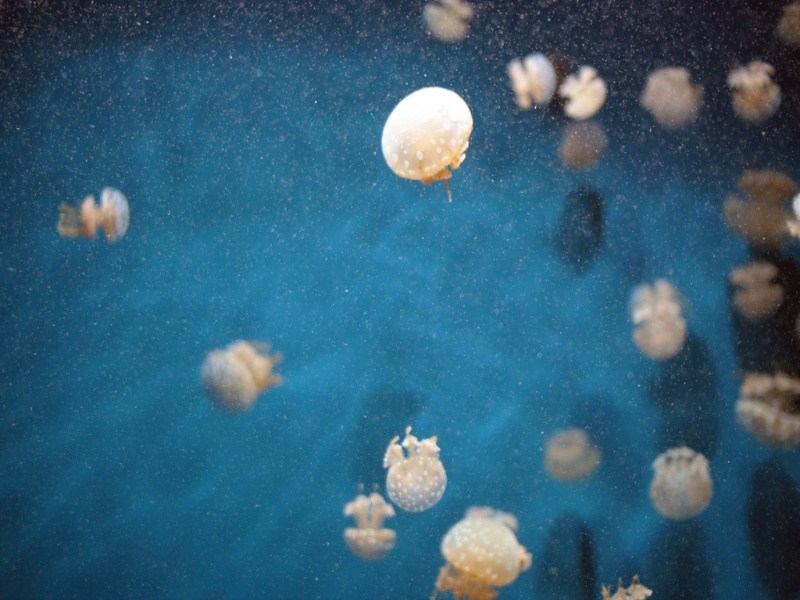Jellyfish: (380, 89, 482, 198), (430, 503, 526, 599), (199, 338, 281, 412), (725, 170, 799, 249), (383, 426, 446, 513), (627, 279, 688, 364), (647, 449, 714, 521), (737, 368, 799, 445), (55, 184, 131, 245), (341, 482, 399, 561), (638, 65, 701, 131), (729, 57, 784, 128), (728, 258, 783, 323), (510, 51, 557, 111), (560, 64, 603, 119), (420, 0, 473, 42)
